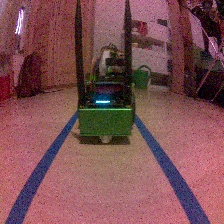rob: (75, 45, 136, 144)
